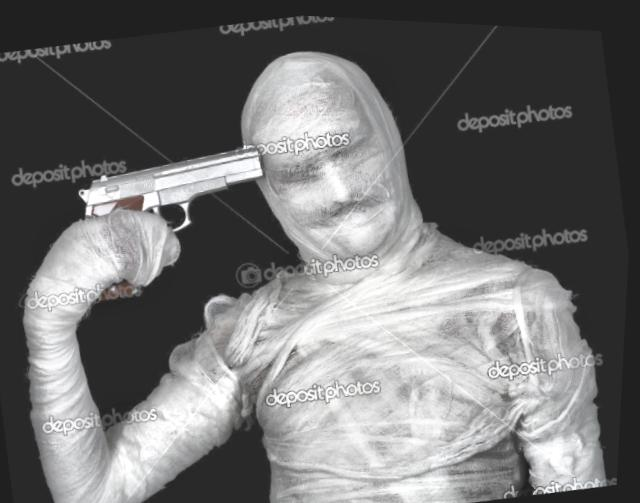pistol: (60, 122, 293, 315)
